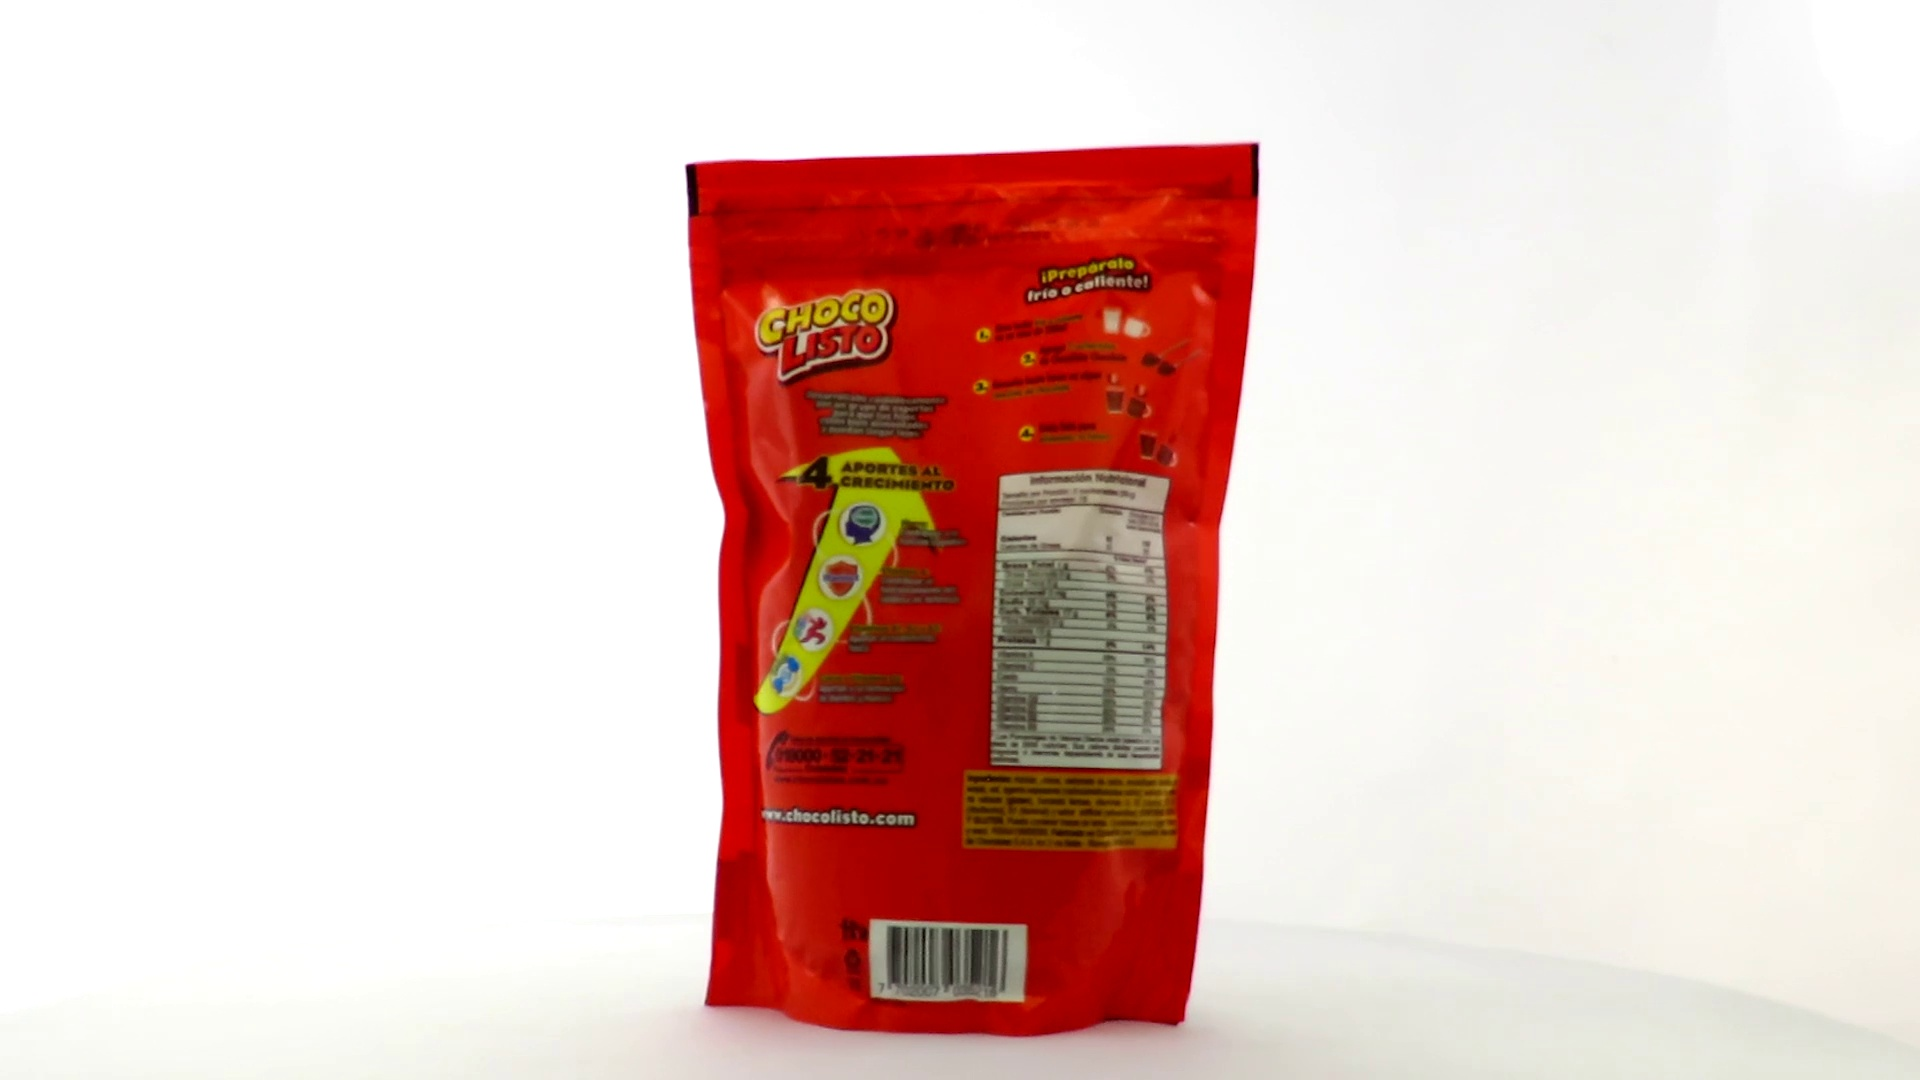COL0170103DYP36000: (680, 138, 1265, 1044)
